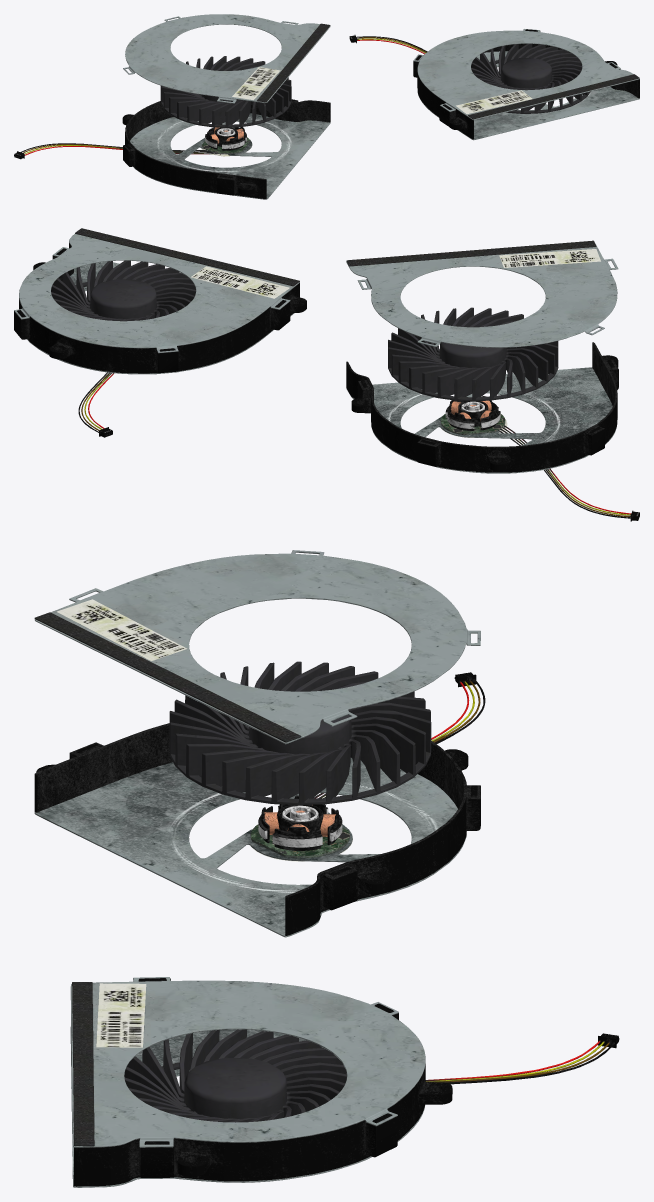
File: ventoinha_notebook.glb
3 renders of one model, top to bottom at view 1: azimuth 30°, elevation 25°; view 2: azimuth 150°, elevation 25°; view 3: azimuth 270°, elevation 25°, orthographic. The views are drawn at different scales.
Visible parts, largest first — view 1: Bottom.005, Bottom.004, Side.005, Fan.004, Fan.005, Side.004, Circuit.005; view 2: Bottom.005, Bottom.004, Fan.005, Side.005, Side.004, Fan.004, Circuit.005; view 3: Bottom.005, Bottom.004, Fan.005, Side.005, Side.004, Fan.004, Circuit.005.
Boxes of the visible parts, x1,y1,x2,y2 form: Bottom.005: (123,14,330,199); Bottom.004: (413,29,639,140); Side.005: (20,99,330,198); Fan.004: (349,35,590,113); Fan.005: (14,56,291,159); Side.004: (356,29,639,139); Circuit.005: (202,124,250,154); Bottom.005: (346,240,618,473); Bottom.004: (14,228,299,374); Fan.005: (388,307,639,521); Side.005: (346,342,631,518); Side.004: (14,243,306,432); Fan.004: (51,260,195,437); Circuit.005: (440,396,505,434); Bottom.005: (34,550,480,937); Bottom.004: (70,977,425,1187); Fan.005: (169,661,476,805); Side.005: (34,679,485,935); Side.004: (73,978,614,1186); Fan.004: (124,1029,619,1122); Circuit.005: (250,795,349,858).
Bounding box in the file's own units: 0.2192 × 0.0397 × 0.1042.
4 materials, 4 textured.
